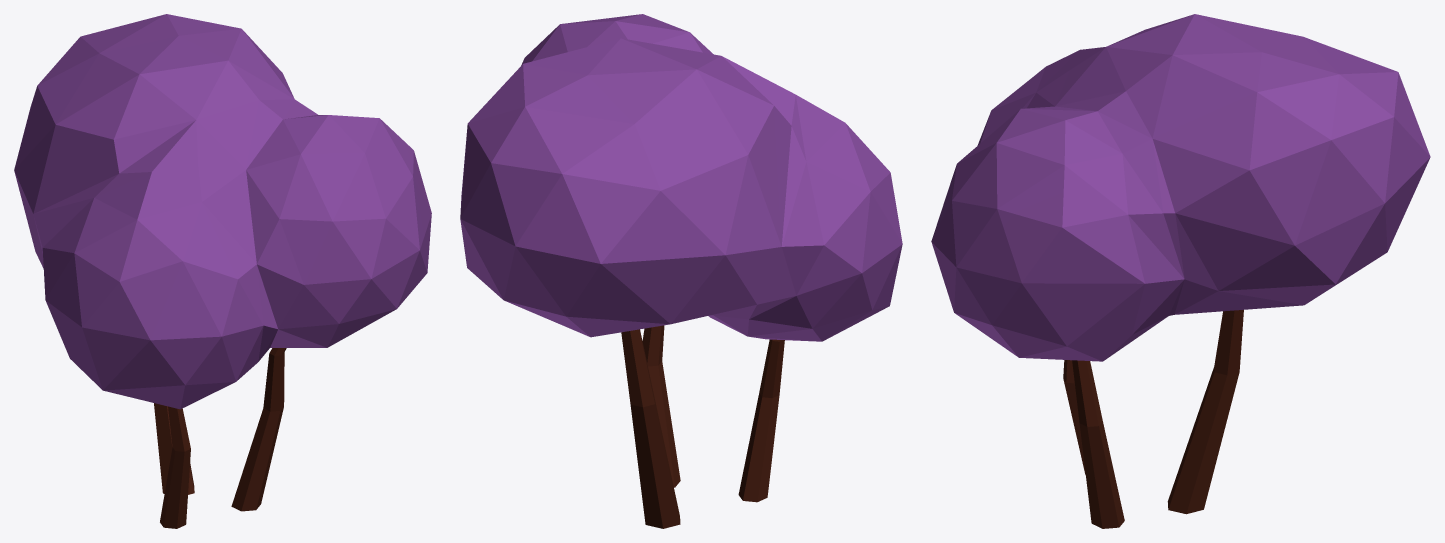
Rendered from Bush01.fbx.
3 renders of one model, left to right at view 1: azimuth 30°, elevation 25°; view 2: azimuth 150°, elevation 25°; view 3: azimuth 270°, elevation 25°, orthographic. The views are drawn at different scales.
Visible parts, largest first — view 1: Bush01; view 2: Bush01; view 3: Bush01.
Part boxes in pixels (x1=…): Bush01: x1=14, y1=14, x2=431, y2=528; Bush01: x1=460, y1=14, x2=902, y2=528; Bush01: x1=931, y1=14, x2=1430, y2=528.
Size of the model in its own units: 107 by 128 by 122.
